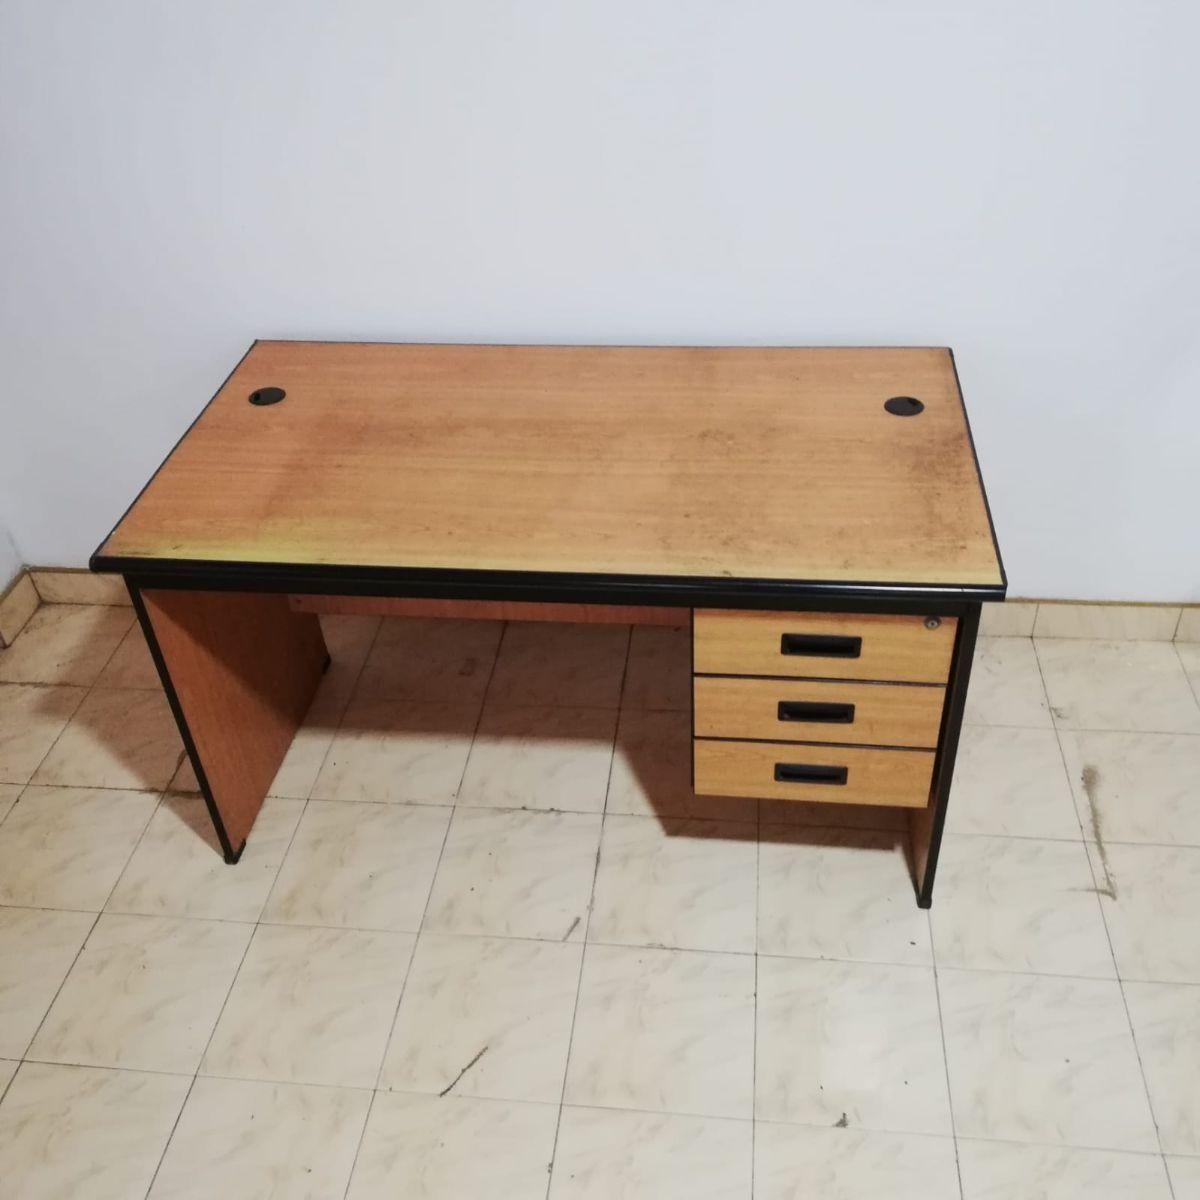Table: (62, 297, 1074, 959)
